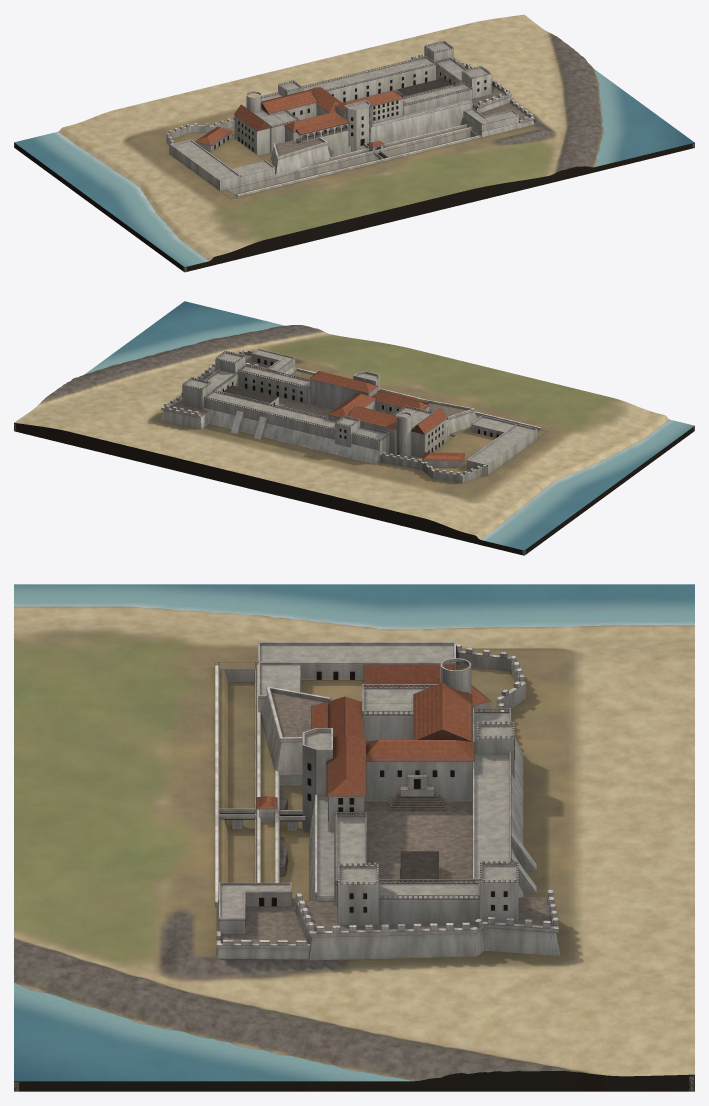
Rendered from elmina-castle.web.glb.
The picture shows the model from 3 angles, top to bottom: view 1: azimuth 30°, elevation 25°; view 2: azimuth 150°, elevation 25°; view 3: azimuth 270°, elevation 25°; orthographic projection. The views are drawn at different scales.
Parts seen in each view (by area): view 1: terrain_shoreline, castle_walls, towers_roofs, ditches_bridge, service_yard, south_bastion, french_battery, east_bastion, courtyard; view 2: terrain_shoreline, castle_walls, towers_roofs, service_yard, french_battery, east_bastion, courtyard, south_bastion, ditches_bridge; view 3: terrain_shoreline, castle_walls, towers_roofs, ditches_bridge, east_bastion, courtyard, service_yard, south_bastion, french_battery.
Part boxes in pixels (x1,y1,x2,y2): terrain_shoreline: (14, 14, 694, 272); castle_walls: (234, 56, 472, 174); towers_roofs: (195, 40, 491, 151); ditches_bridge: (226, 124, 480, 197); service_yard: (170, 126, 275, 190); south_bastion: (460, 99, 534, 137); french_battery: (166, 117, 234, 154); east_bastion: (409, 54, 511, 113); courtyard: (342, 78, 452, 102); terrain_shoreline: (14, 301, 694, 555); castle_walls: (203, 364, 477, 464); towers_roofs: (182, 350, 464, 461); service_yard: (388, 415, 537, 474); french_battery: (380, 452, 487, 483); east_bastion: (160, 363, 260, 429); courtyard: (223, 385, 334, 419); south_bastion: (237, 348, 296, 375); ditches_bridge: (290, 368, 541, 431); terrain_shoreline: (14, 584, 694, 1091); castle_walls: (261, 684, 536, 924); towers_roofs: (302, 658, 518, 924); ditches_bridge: (215, 665, 309, 906); east_bastion: (295, 889, 560, 960); courtyard: (364, 775, 472, 882); service_yard: (258, 642, 514, 741); south_bastion: (216, 882, 310, 959); french_battery: (456, 643, 525, 717).
Bounding box in the file's own units: 1.5 × 0.1483 × 0.8686.
12 materials, 12 textured.
